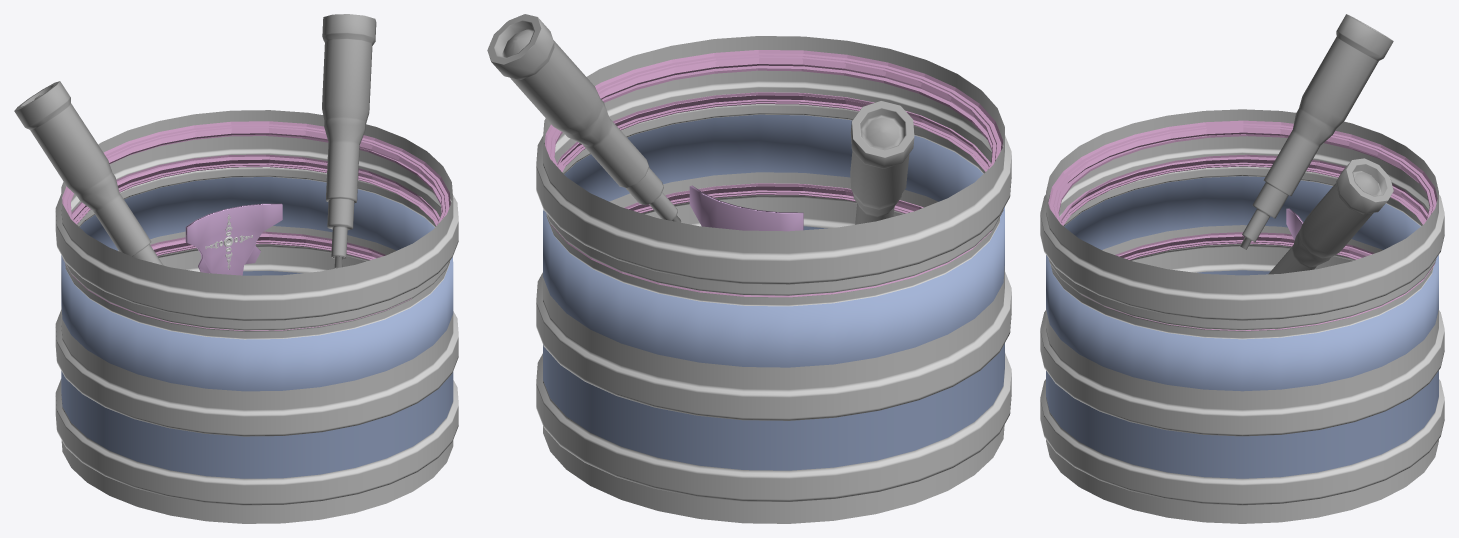
The model's file is Observatory_Interior_Whole.fbx.
3 renders of one model, left to right at view 1: azimuth 30°, elevation 25°; view 2: azimuth 150°, elevation 25°; view 3: azimuth 270°, elevation 25°, orthographic. The views are drawn at different scales.
Visible parts, largest first — view 1: Circle.002, Cylinder, Circle, Circle 1.001; view 2: Circle.002, Cylinder, Circle, Circle 1.001; view 3: Circle.002, Cylinder, Circle.
Boxes of the visible parts, box(x1,y1,x2,y2) form: Circle.002: box(55, 110, 458, 523); Cylinder: box(14, 14, 376, 268); Circle: box(62, 121, 450, 330); Circle 1.001: box(185, 203, 282, 275); Circle.002: box(536, 36, 1011, 523); Cylinder: box(487, 14, 914, 224); Circle: box(545, 50, 1002, 297); Circle 1.001: box(689, 185, 803, 231); Circle.002: box(1040, 109, 1444, 523); Cylinder: box(1240, 14, 1393, 274); Circle: box(1048, 120, 1437, 330).
Bounding box in the file's own units: 6200 × 5841 × 6082.
